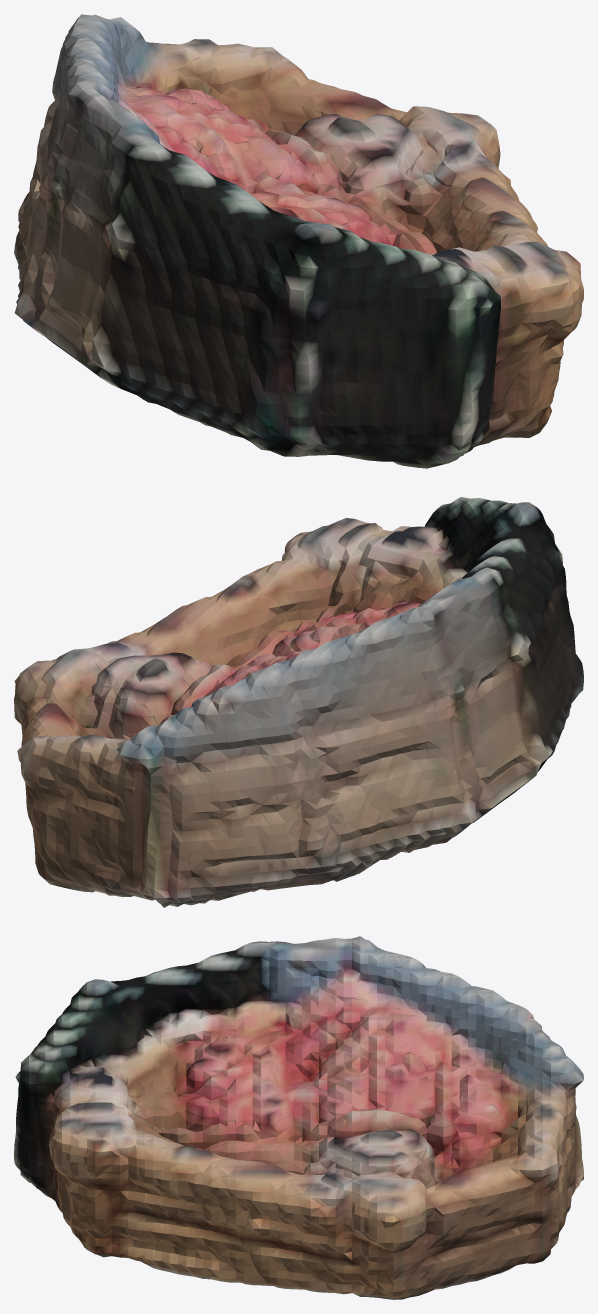
File: GODOT_YUP.glb
3 renders of one model, top to bottom at view 1: azimuth 30°, elevation 25°; view 2: azimuth 150°, elevation 25°; view 3: azimuth 270°, elevation 25°, orthographic. The views are drawn at different scales.
Parts seen in each view (by area): view 1: world; view 2: world; view 3: world.
Boxes of the visible parts, box(x1,y1,x2,y2) form: world: box(14, 14, 583, 468); world: box(14, 497, 583, 907); world: box(14, 936, 583, 1299).
Size of the model in its own units: 0.7059 by 0.4101 by 0.9423.
